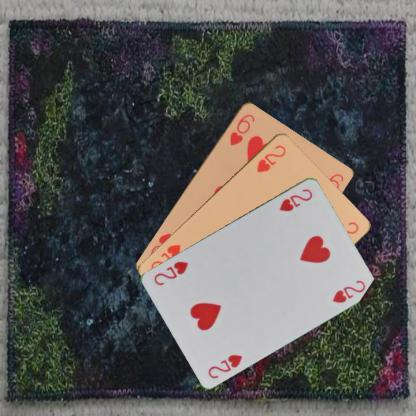2h: (205, 351, 244, 380), (254, 141, 287, 174), (276, 186, 314, 212)
6h: (227, 111, 256, 147)
